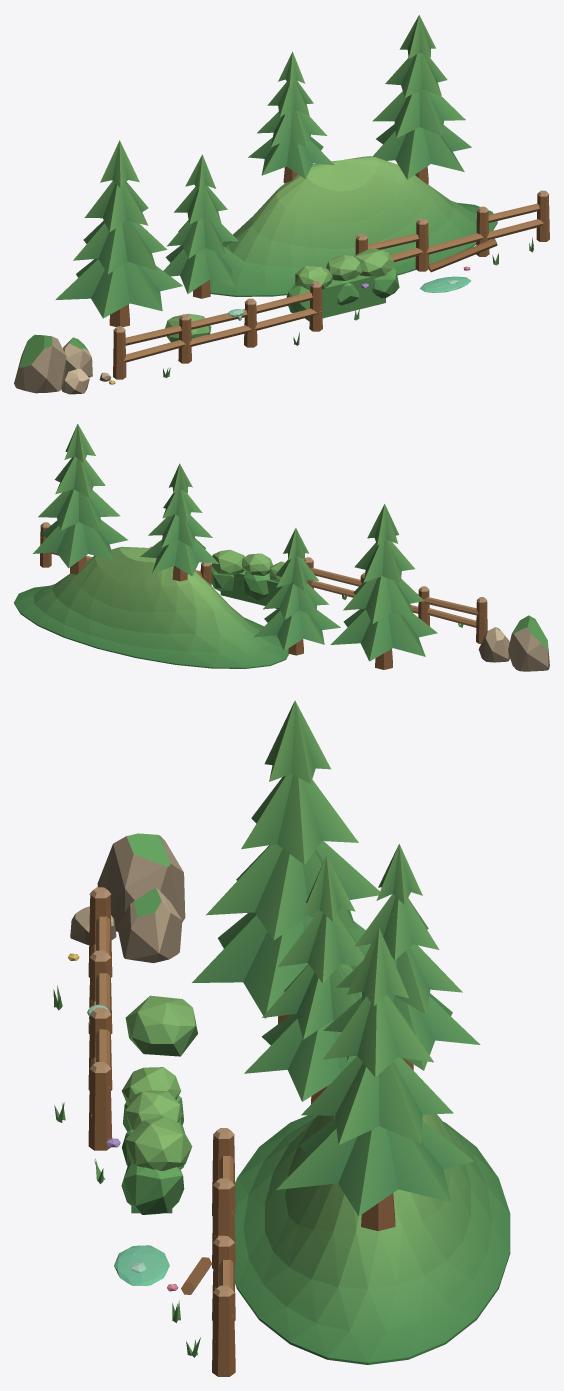
File: ranch_border_chunk_g.fbx
3 renders of one model, top to bottom at view 1: azimuth 30°, elevation 25°; view 2: azimuth 150°, elevation 25°; view 3: azimuth 270°, elevation 25°, orthographic. The views are drawn at different scales.
Parts seen in each view (by area): view 1: ranch_border_chunk_g; view 2: ranch_border_chunk_g; view 3: ranch_border_chunk_g.
Boxes of the visible parts, box(x1,y1,x2,y2) form: ranch_border_chunk_g: box(14, 15, 549, 394); ranch_border_chunk_g: box(14, 424, 549, 671); ranch_border_chunk_g: box(53, 700, 510, 1376).
Size of the model in its own units: 54.98 by 20.24 by 22.21.
